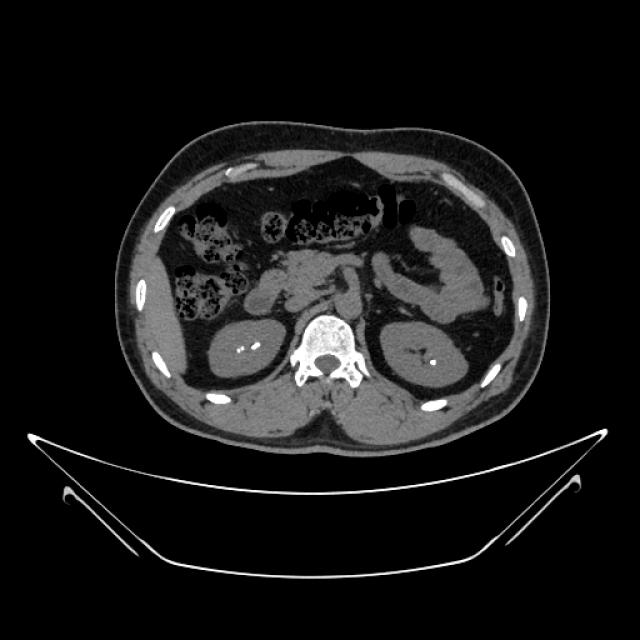kidneystone: (250, 341, 261, 349), (429, 359, 436, 366), (236, 346, 243, 353)
